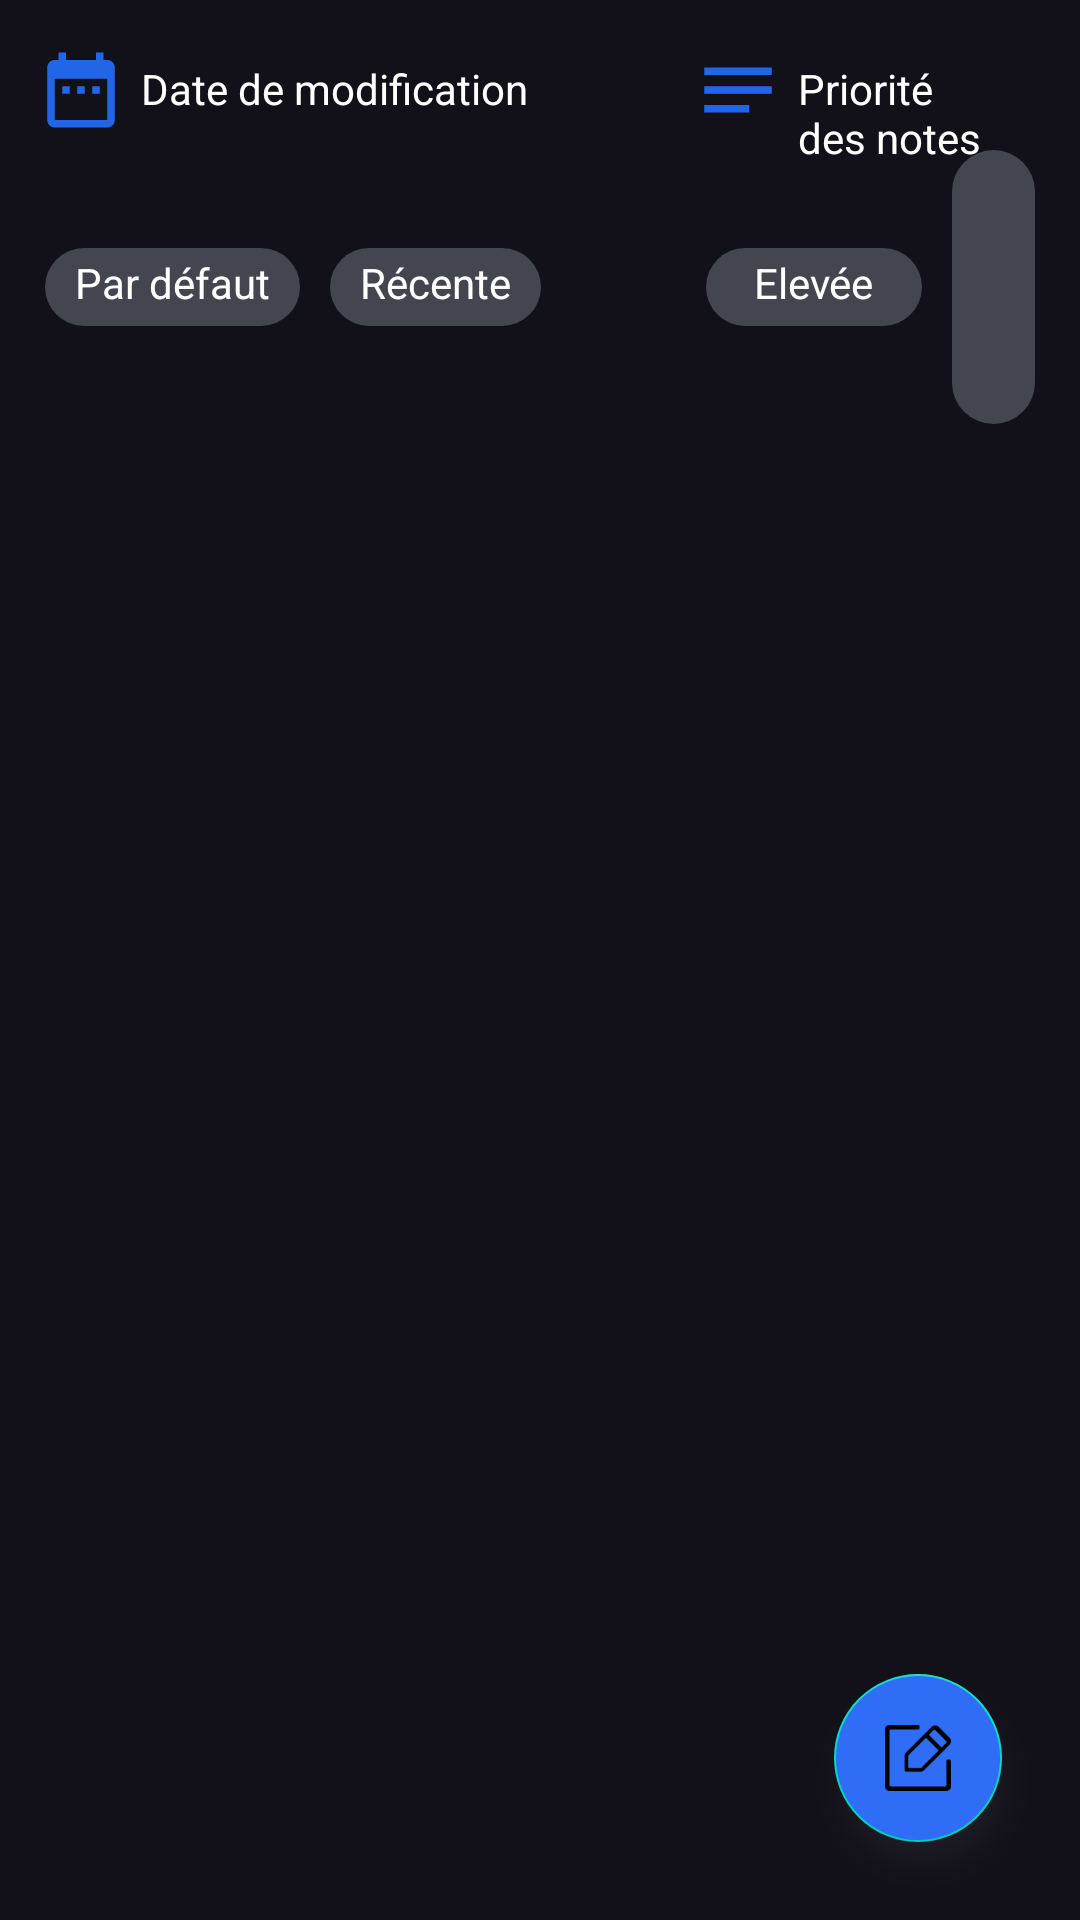

Icon bounding boxes for this 1080x1920 phone screenshot, format bbox=[x1, y1, x2, y2]:
date range: bbox=[47, 52, 115, 128]
note edit: bbox=[834, 1674, 1002, 1842]
